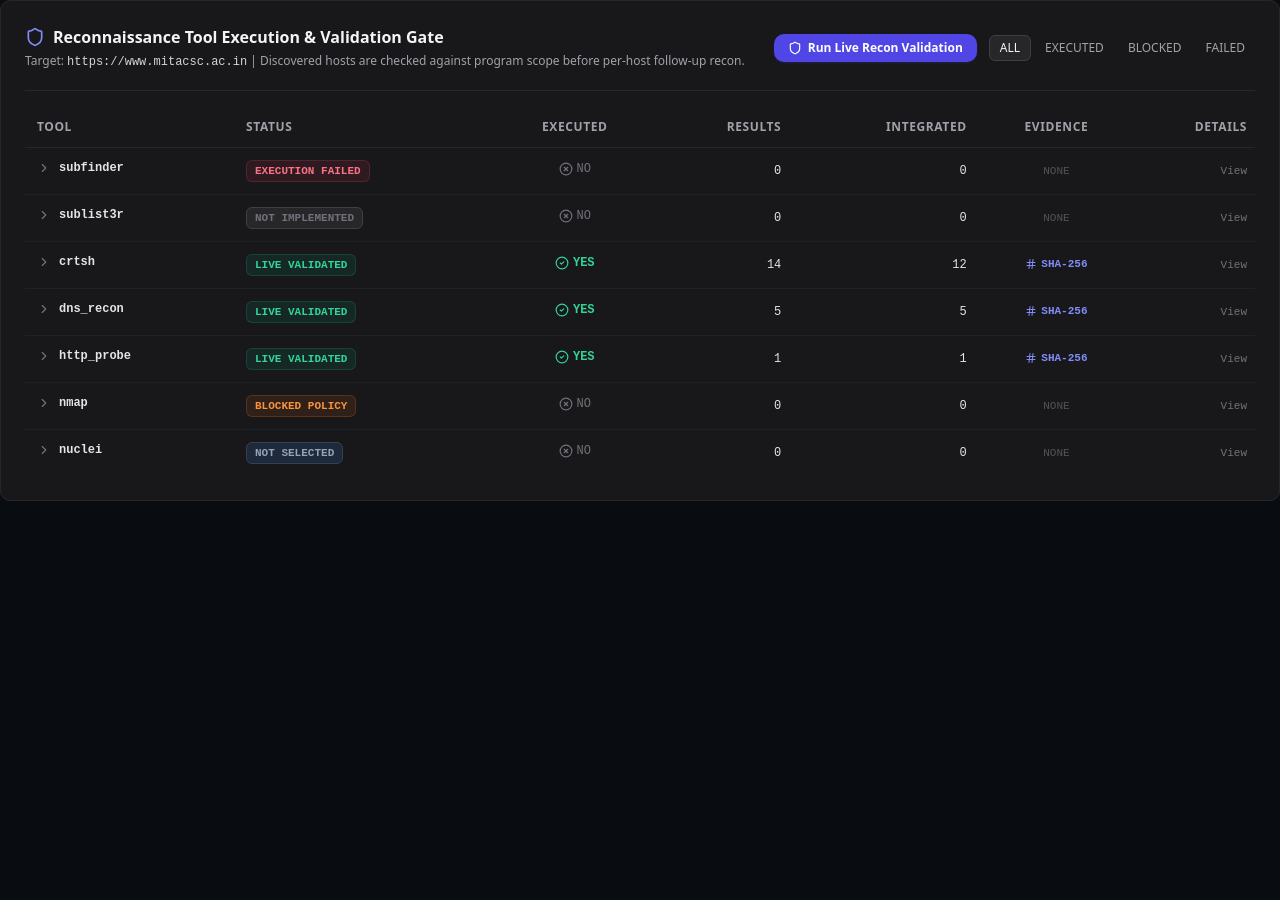
Test: ReconToolExecutionPanel UI Component › expands tool details when clicked to show arguments and failure reason
This screenshot has width=1280, height=900.
Note: Click sublist3r row
Click the text "sublist3r": (91, 215) [59,207,124,223]
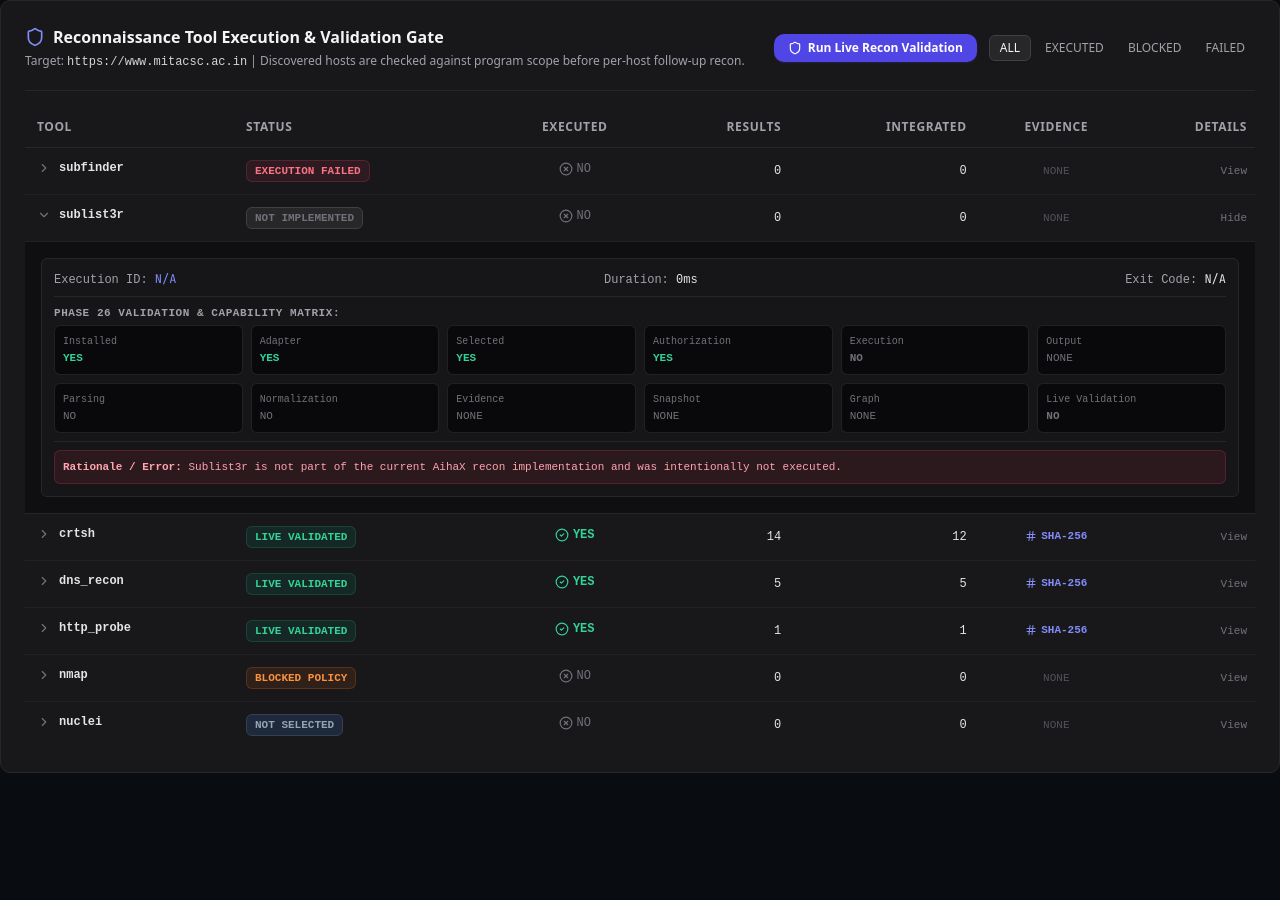
expect the text "Sublist3r is not part of the current AihaX recon implementation" is shown: met, box [188,461,842,473]
Note: Click subfinder row
Click the text "subfinder": (91, 168) [59,160,124,176]
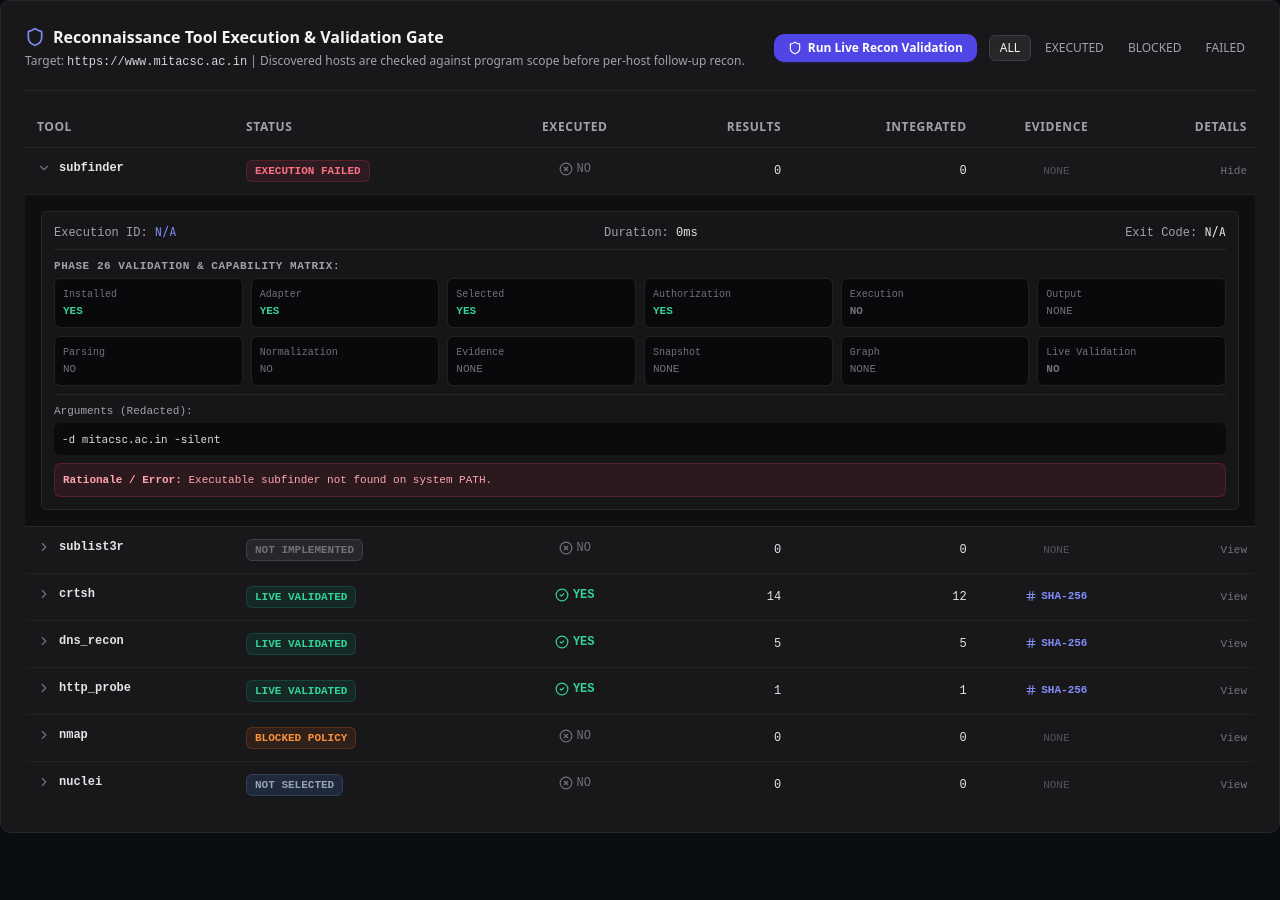
expect the text "Executable subfinder not found on system PATH" is shown: met, box [188,474,492,486]
